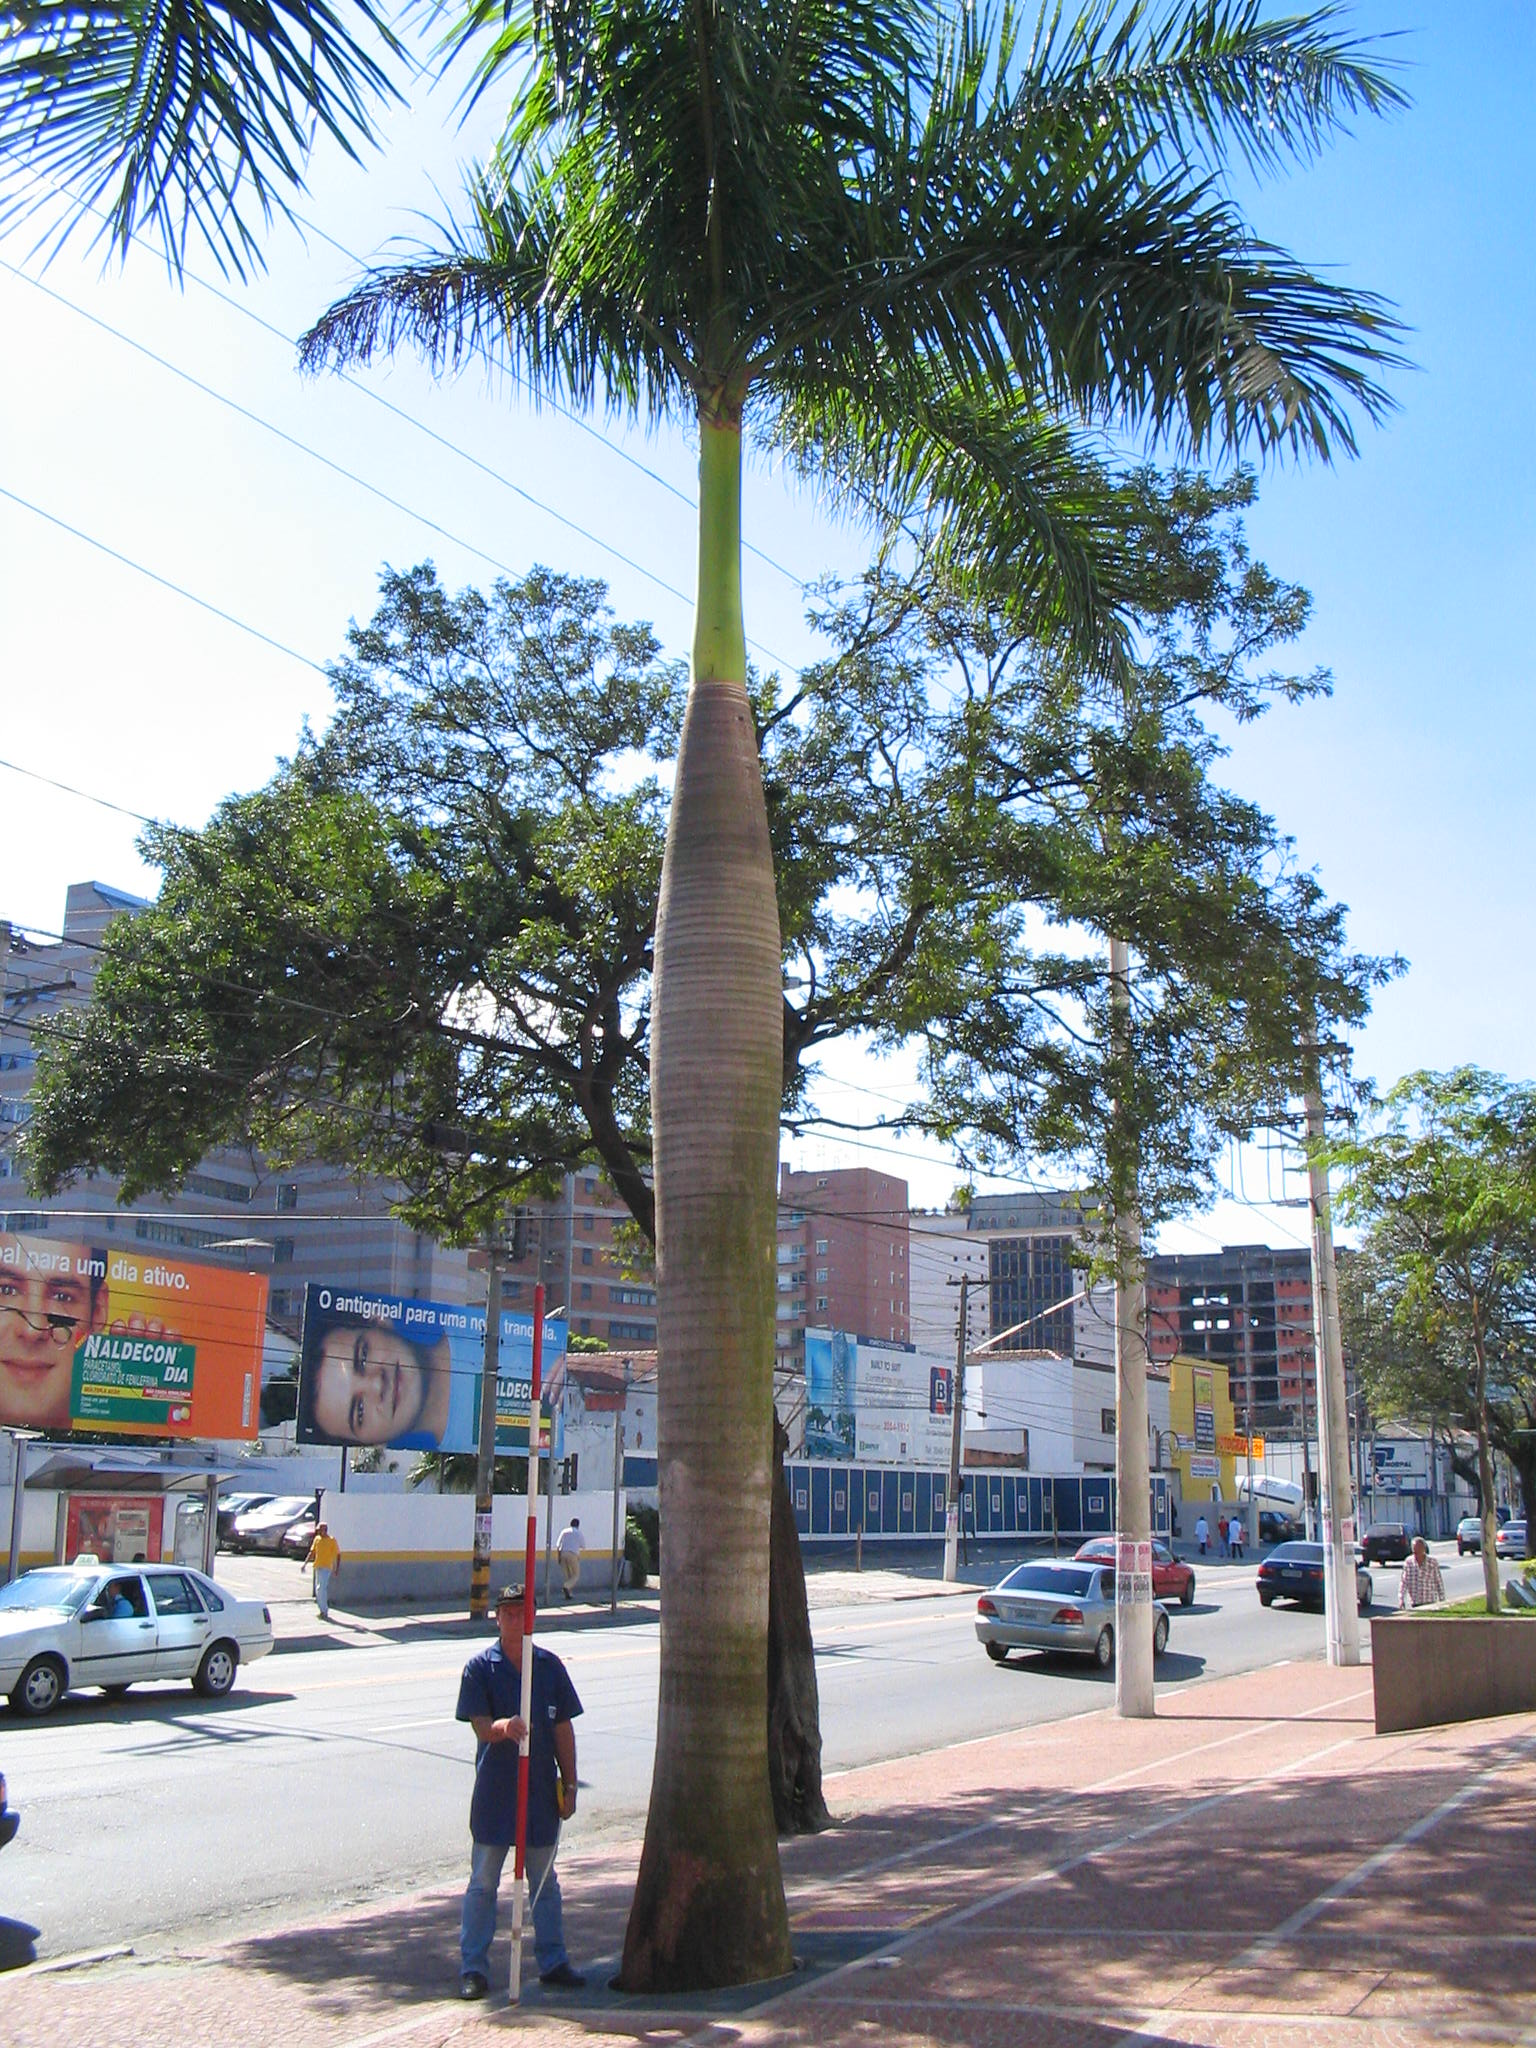crown: (32, 561, 1412, 1290), (302, 5, 1415, 676)
stem: (611, 445, 820, 1996)
stick: (484, 1282, 561, 2001)
tree: (295, 2, 1425, 2003), (24, 558, 1412, 1834)
